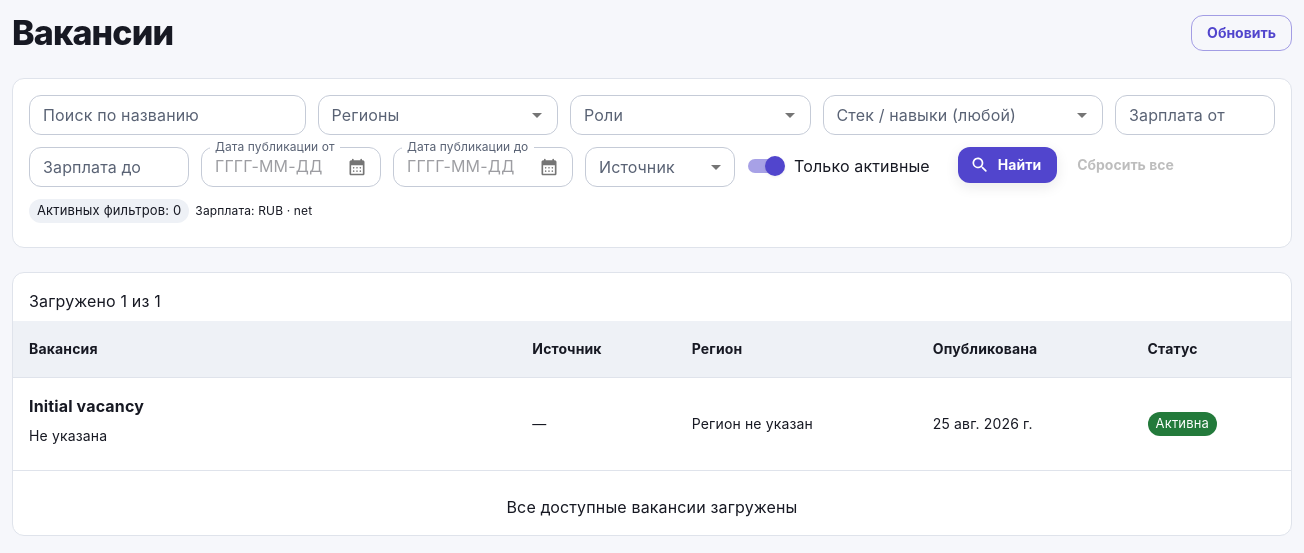
Test case: VacanciesPage › resets accumulated pages when a filter changes
Expected: the text "Initial vacancy" is shown, [29, 394, 144, 418]
Step 1. Type "Data engineer" into the field labelled "Поиск по названию" → (167, 115), box [29, 95, 306, 135]
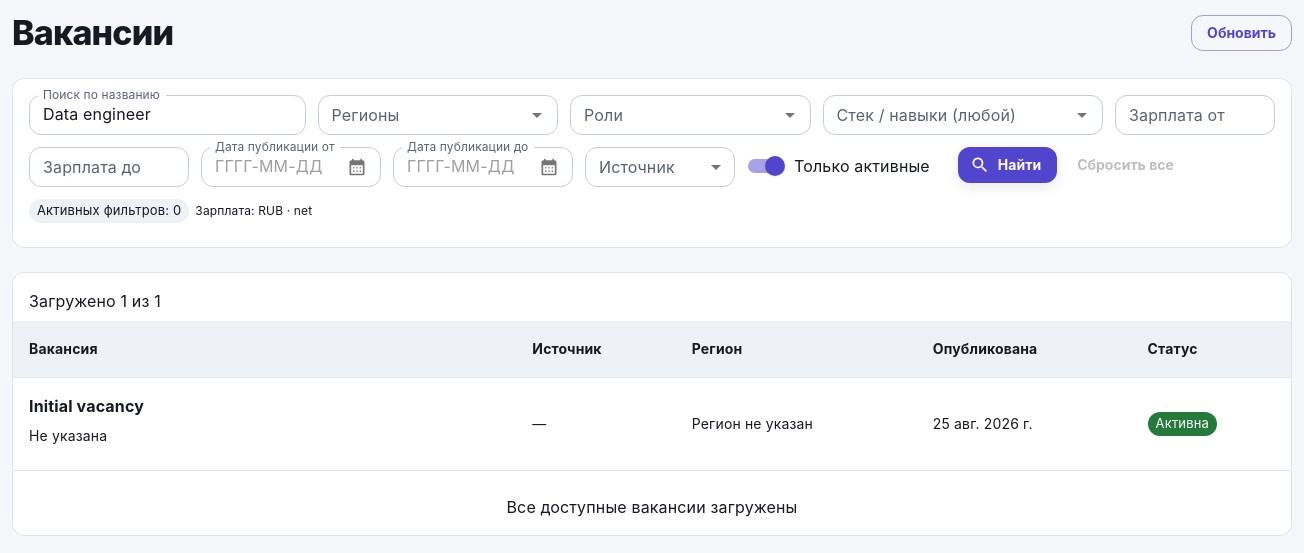
Expected: the icon with test id "SearchRoundedIcon" is shown, [970, 155, 990, 175]
Step 2. Click the button "Найти" → (1008, 165), box [958, 147, 1057, 184]
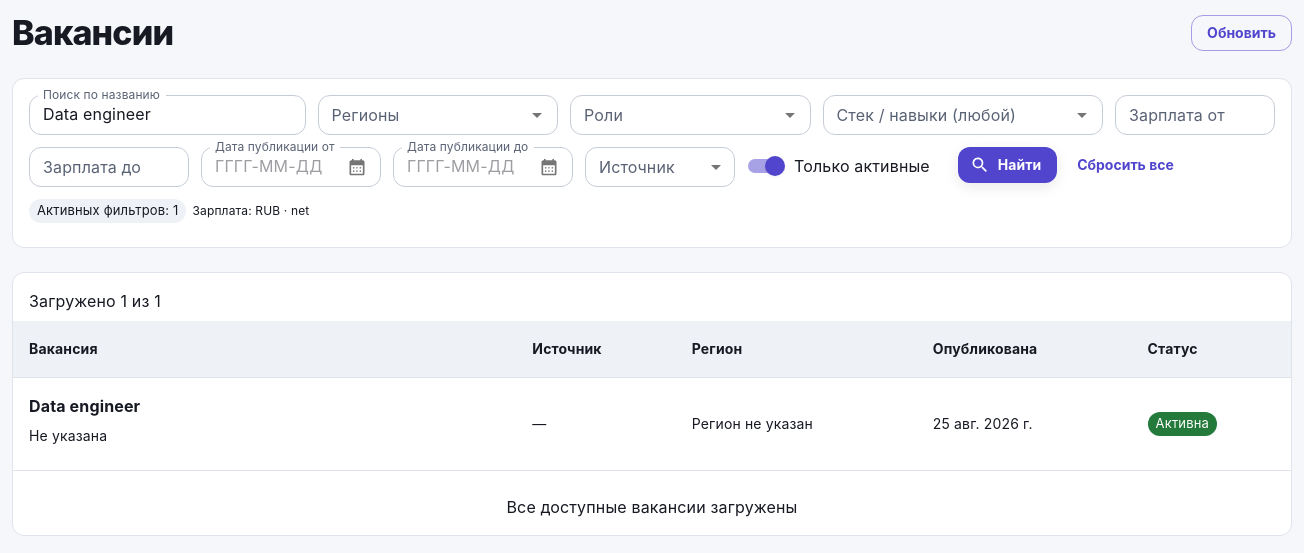
Expected: the text "Data engineer" is shown, [29, 394, 140, 418]
Expected: the text "Initial vacancy" is gone
